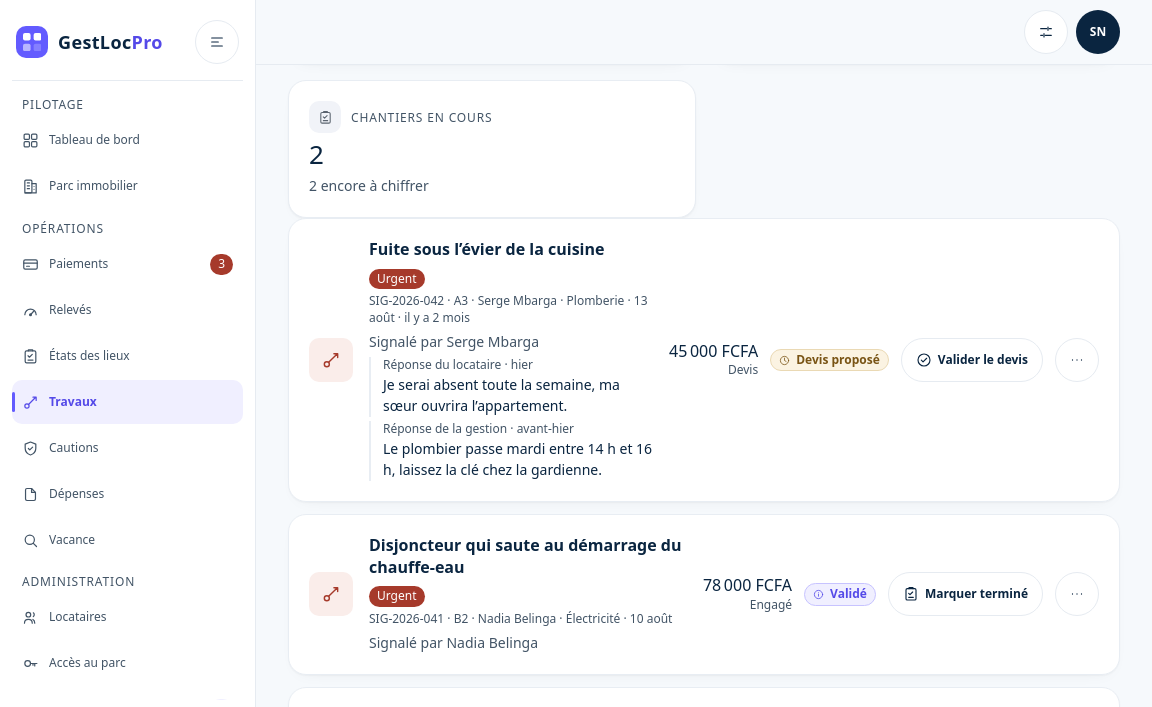
validation d’un devis › fait disparaître le bouton, puisqu’il n’y a plus rien à valider
This screenshot has width=1152, height=707.
(page scrolled)
Click the button "Valider le devis" at x=972, y=360, box x1=901 y1=338 x2=1043 y2=382
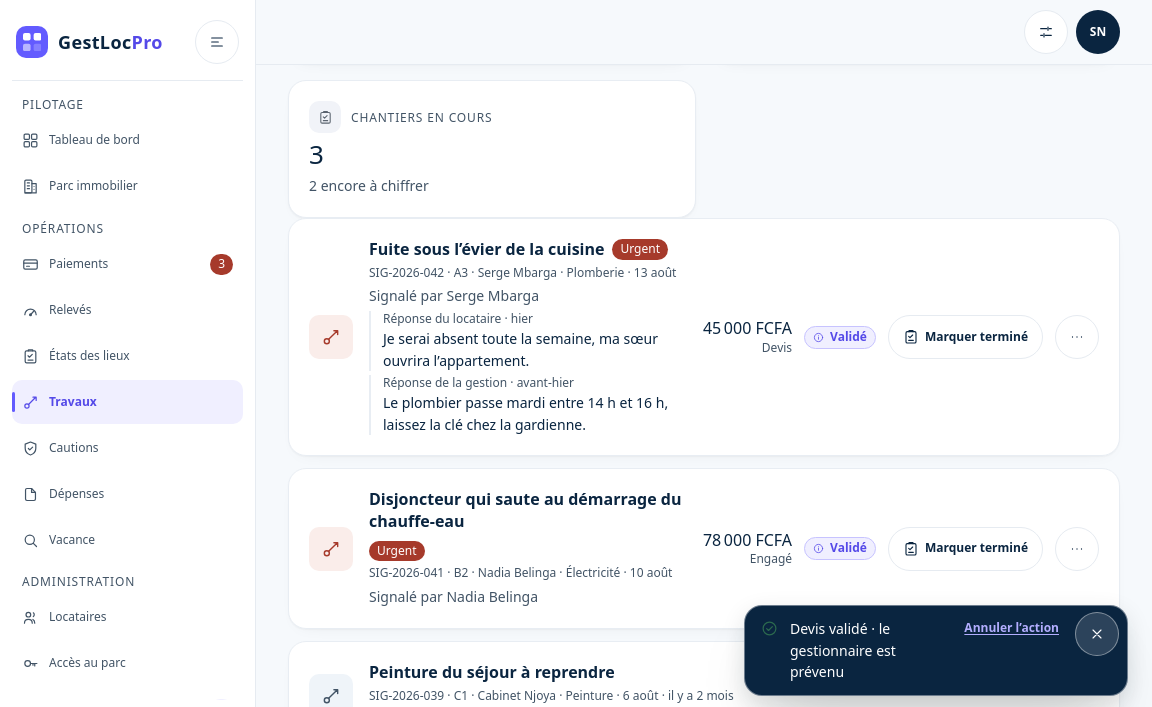
Expected: the button "Valider le devis" is gone
